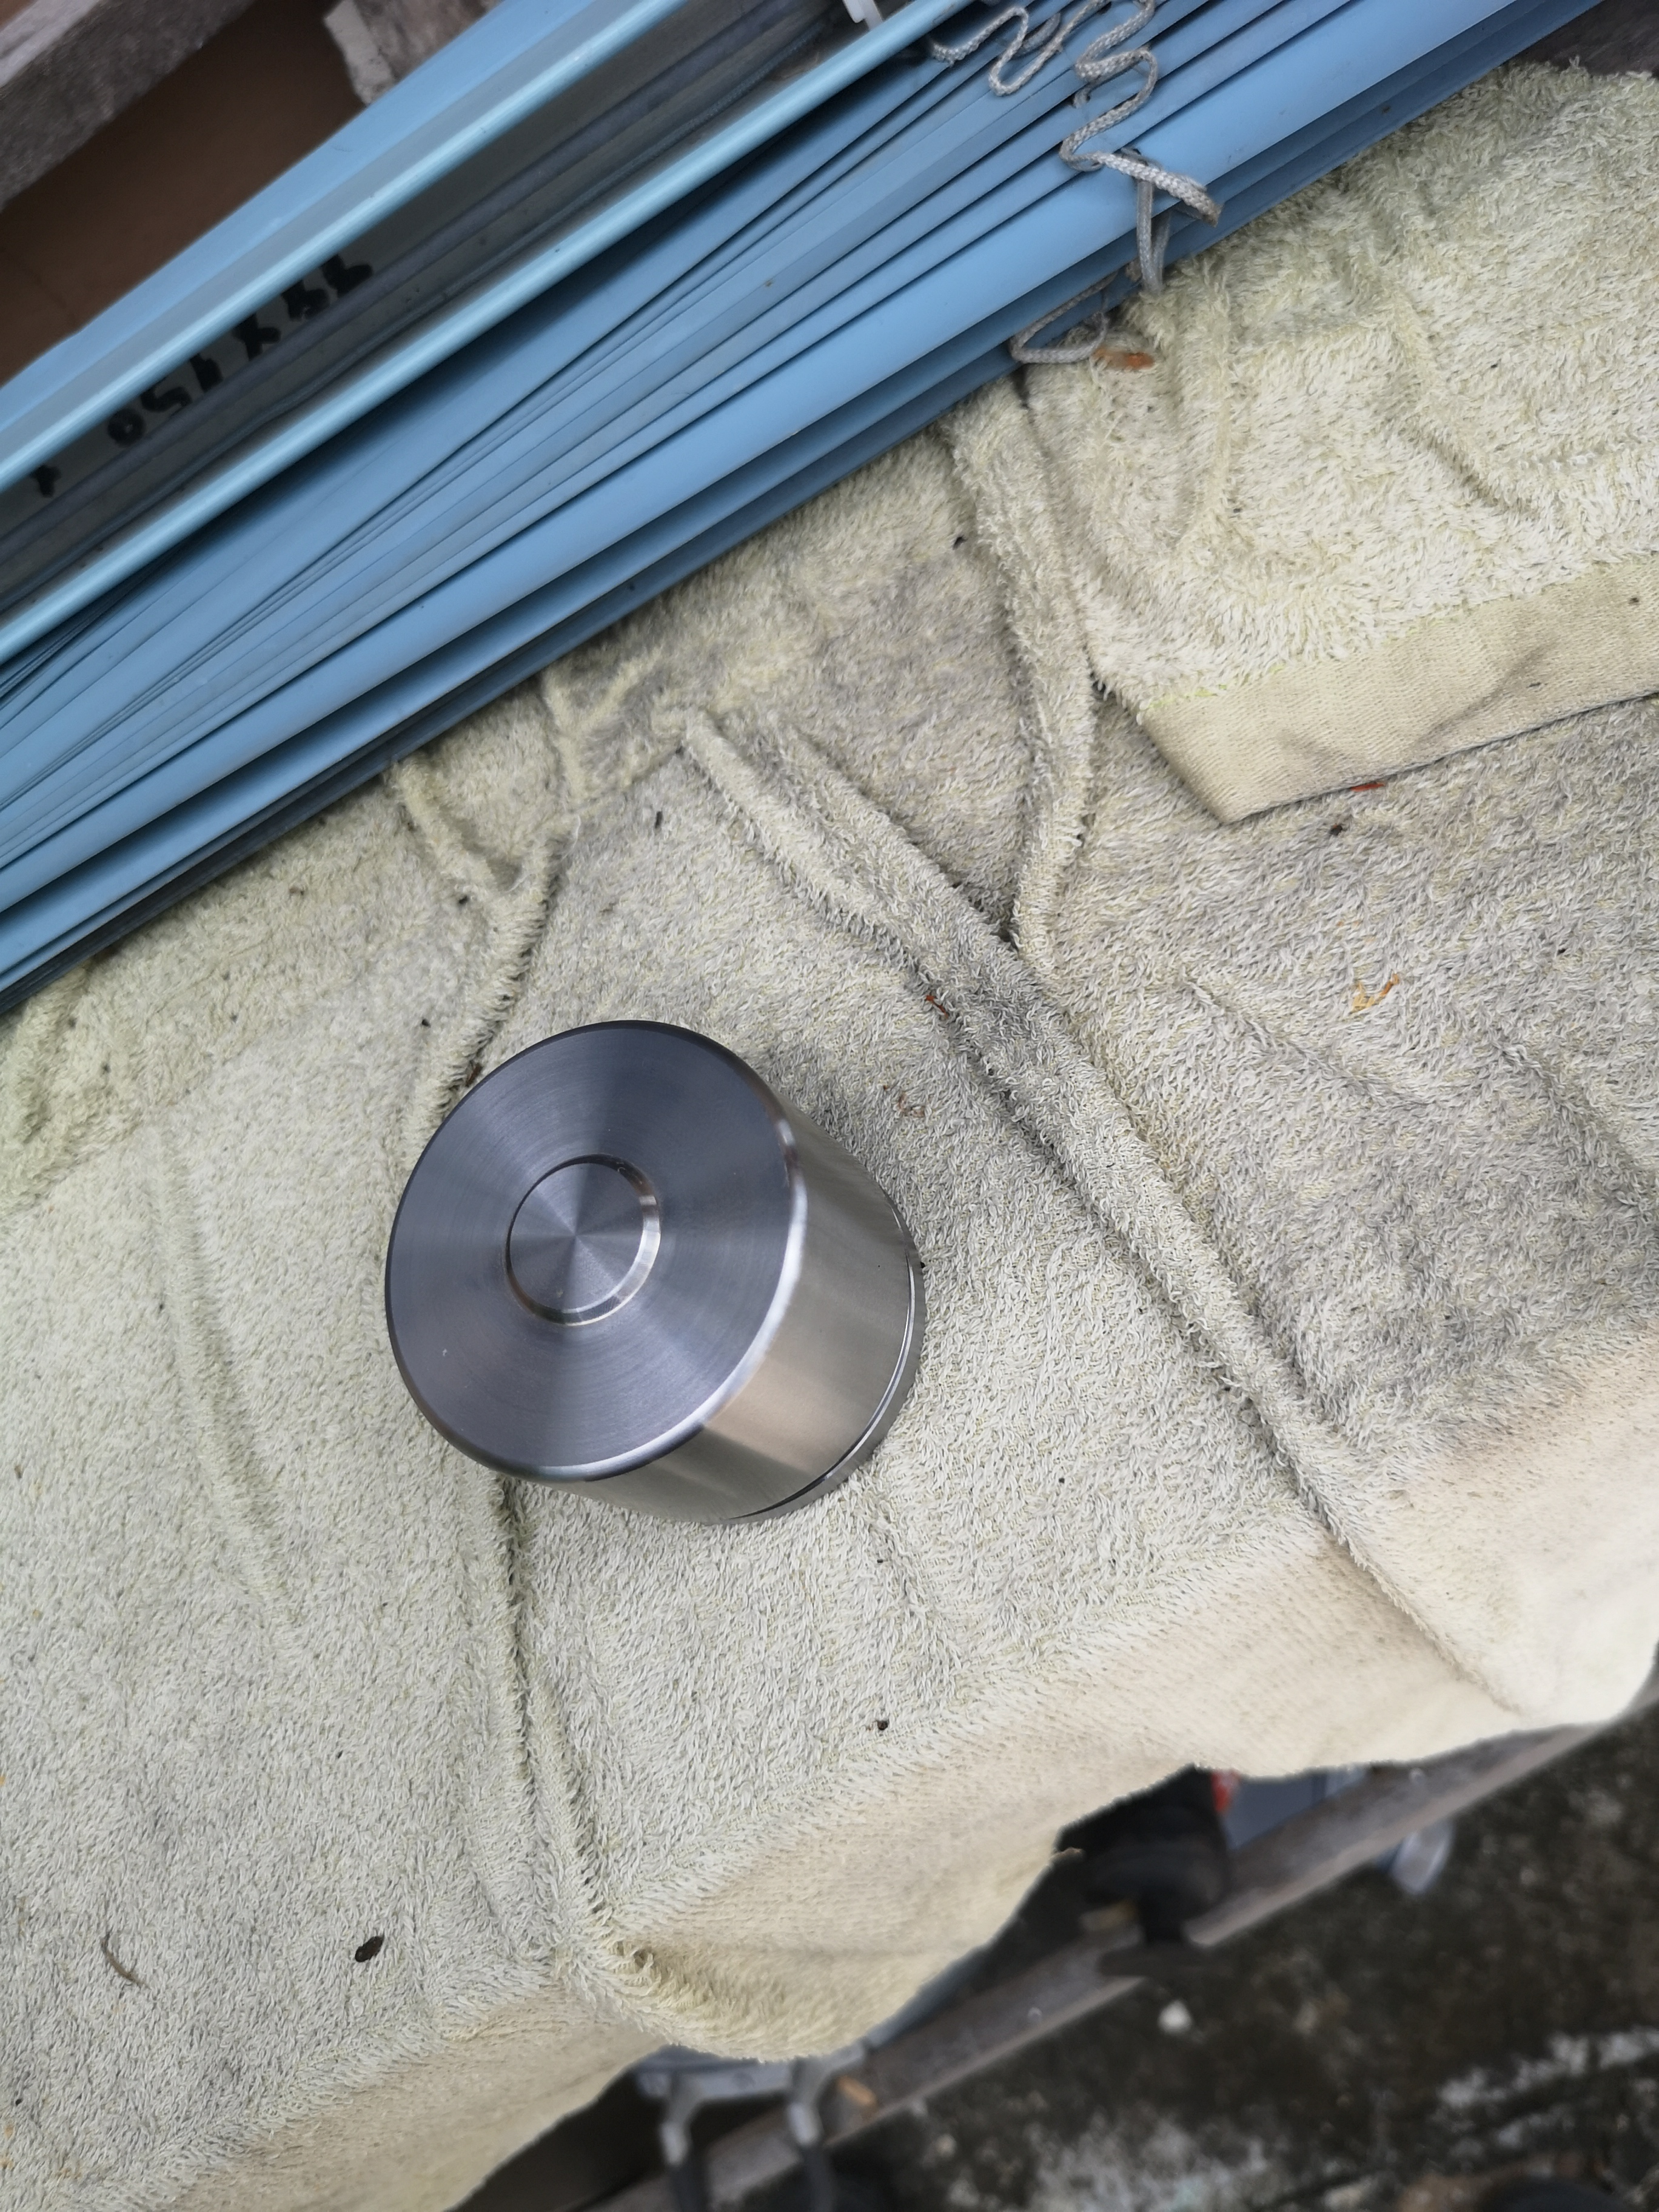ลูกสูบดิสเบรค: (357, 1007, 945, 1594)
